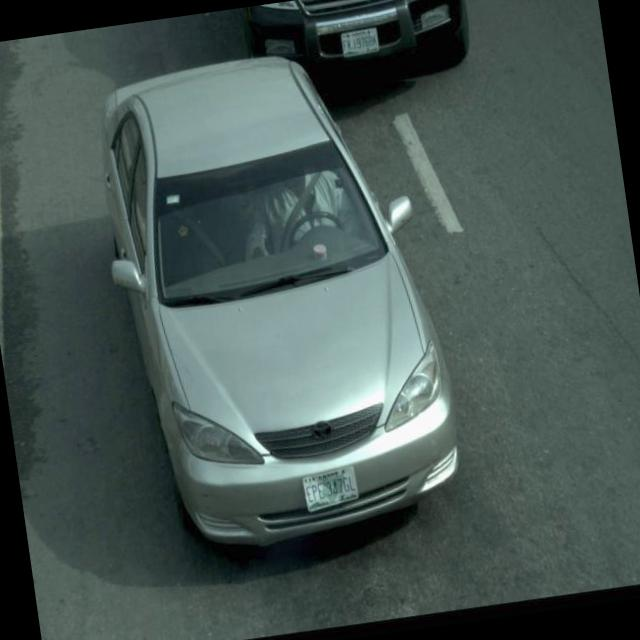person_with_seatbelt: (235, 150, 370, 297)
